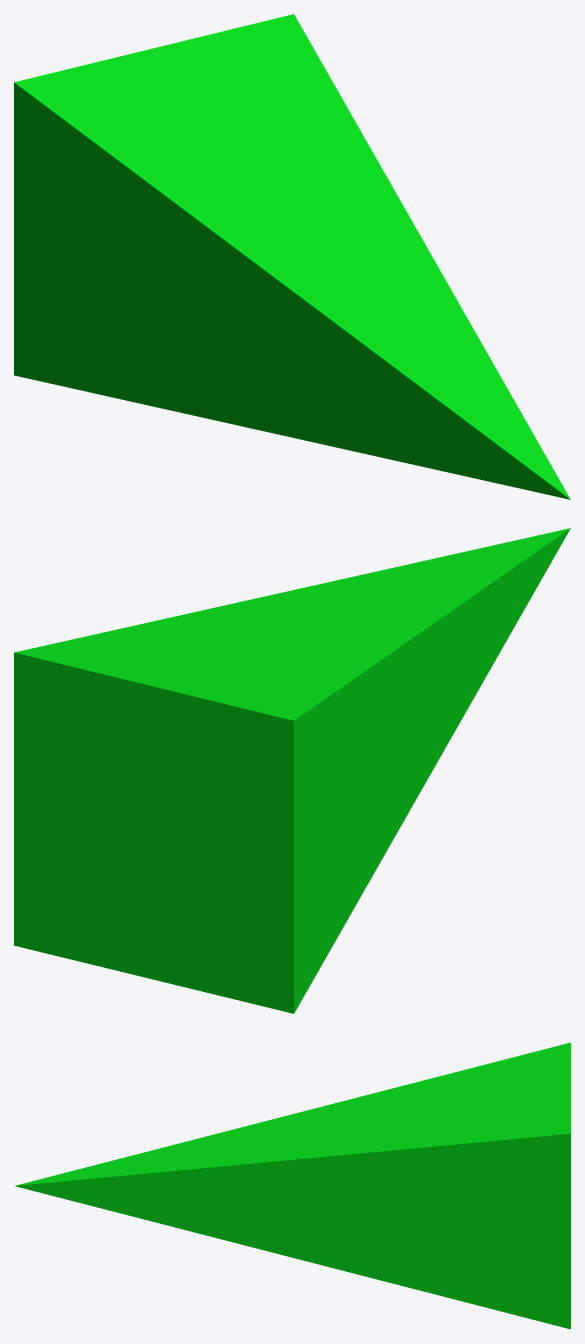
Rendered from pointer.glb.
3 views of the same model, one above another, from view 1: azimuth 30°, elevation 25°; view 2: azimuth 150°, elevation 25°; view 3: azimuth 270°, elevation 25° (orthographic). The views are drawn at different scales.
Visible parts, largest first — view 1: Cube; view 2: Cube; view 3: Cube.
Part boxes in pixels (left/top/right/bottom): Cube: left=14, top=14, right=570, bottom=499; Cube: left=14, top=528, right=570, bottom=1013; Cube: left=15, top=1042, right=570, bottom=1329.
Bounding box in the file's own units: 2 × 2 × 5.16.
